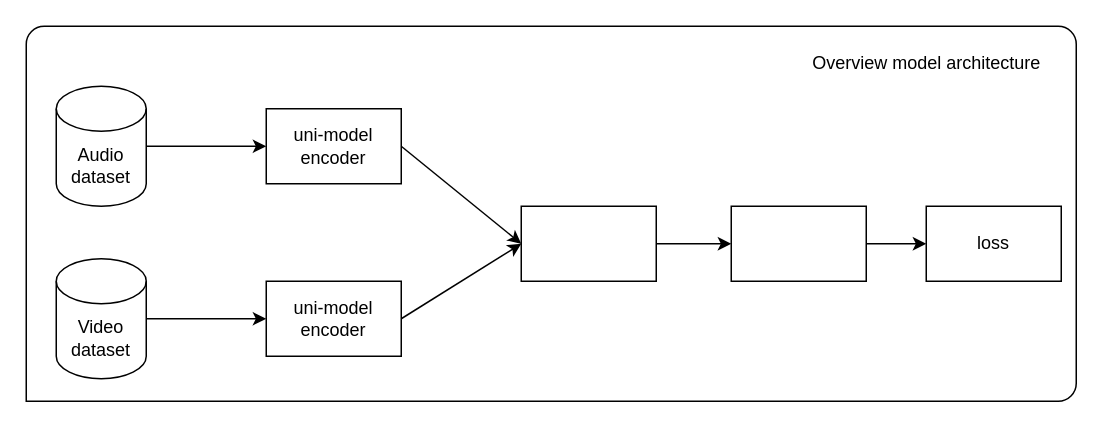
Some shapes in this 1103 by 428 pixel diagram are drawn without their labels. The shapes that lost their labels are listed below. From the top down, each one's centre as x and y in pixels, then its label:
At (588,243): "cross-model encoder".
At (798,243): "ranking layer".
